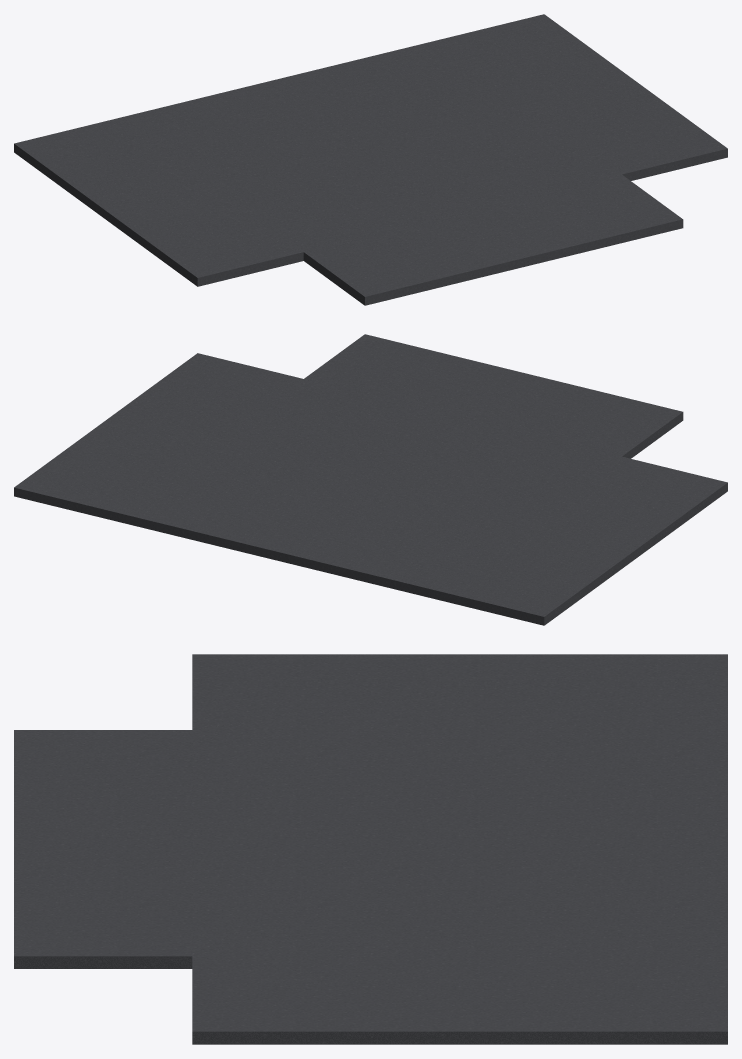
Rendered from MS_RD_03_TJunction.glb.
3 renders of one model, top to bottom at view 1: azimuth 30°, elevation 25°; view 2: azimuth 150°, elevation 25°; view 3: azimuth 270°, elevation 25°, orthographic. The views are drawn at different scales.
Visible parts, largest first — view 1: Asphalt.002; view 2: Asphalt.002; view 3: Asphalt.002.
Boxes of the visible parts, x1=… form: Asphalt.002: x1=14, y1=14, x2=727, y2=305; Asphalt.002: x1=14, y1=334, x2=727, y2=625; Asphalt.002: x1=14, y1=654, x2=727, y2=1044.
Size of the model in its own units: 10 by 0.16 by 8.
Materials: 1 (1 with a texture image).
